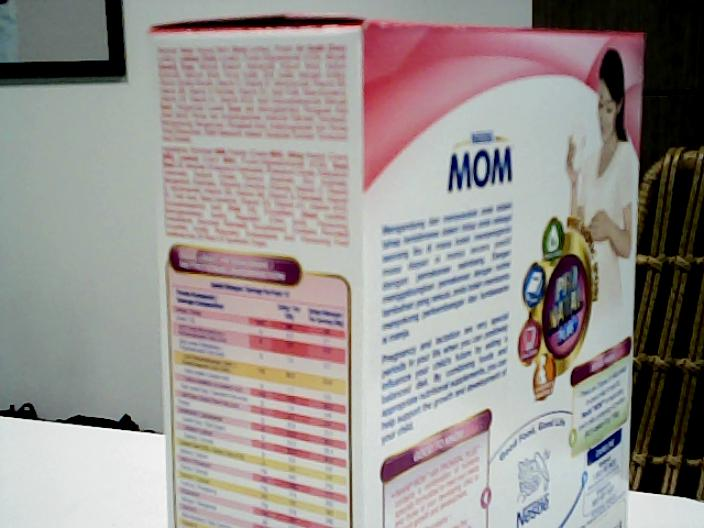MaternalMilkPowder_600-699g_Halal_NonHealthy: (163, 39, 631, 528)
